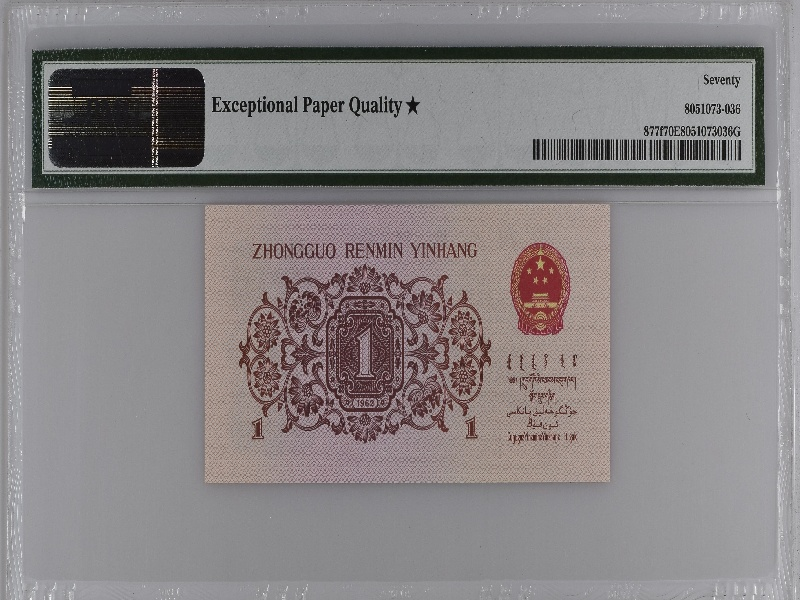papernote: (202, 198, 613, 486)
